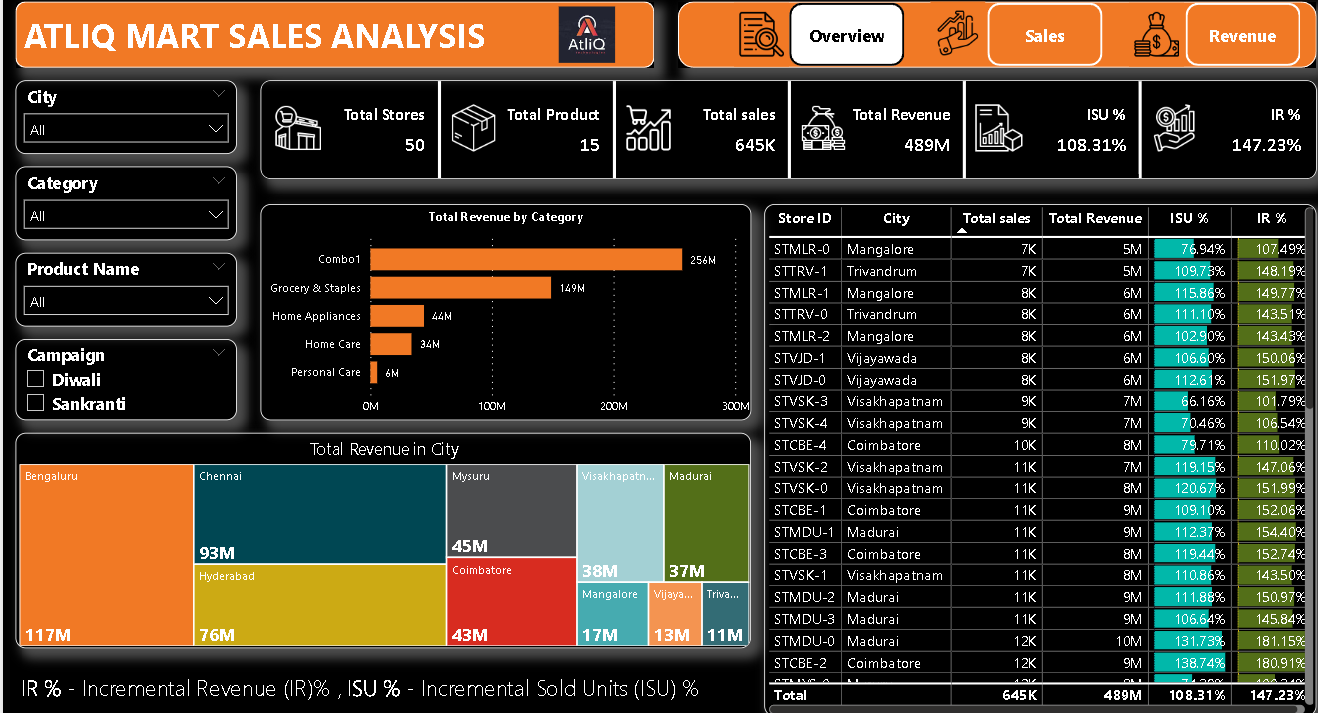

This screenshot's page, from the dashboard's own definition file:
{"tool":"powerbi","page":{"name":"Overview","canvas":[1280,720],"ordinal":0},"visuals":[{"type":"group","id":"g1","title":"Group 1","box":[651.3,12.1,616.3,63.9],"z":0},{"type":"shape","box":[651.3,12.1,616.3,63.9],"z":0,"group":"g1"},{"type":"shape","box":[12.1,12.1,616.3,63.9],"z":1000,"group":"g2"},{"type":"treemap","title":"Total Revenue in City","fields":{"Group":["dim_stores.city"],"Values":["Key Measures.Total Revenue1"]},"box":[12.6,428.2,709.9,207.8],"z":1000},{"type":"tableEx","fields":{"Values":["fact_events.store_id","dim_stores.city","Key Measures.Total sales","Key Measures.Total Revenue","Key Measures.ISU %","Key Measures.IR %"]},"box":[734.5,207.4,533.1,494.5],"z":2000},{"type":"pageNavigator","box":[758.6,13.3,494.5,61.5],"z":3000},{"type":"image","box":[516.2,12.1,94.1,63.9],"z":4000,"group":"g2"},{"type":"slicer","fields":{"Values":["dim_stores.city"]},"box":[12.1,88,213.5,71.2],"z":4000},{"type":"slicer","fields":{"Values":["dim_products.category"]},"box":[12.1,171.3,213.5,71.2],"z":5000},{"type":"slicer","fields":{"Values":["dim_campaigns.campaign_name"]},"box":[12.1,337.7,213.5,78.4],"z":6000},{"type":"image","box":[705.6,13.3,53.1,61.5],"z":7000,"group":"g1"},{"type":"slicer","fields":{"Values":["dim_products.product_name"]},"box":[12.1,254.5,213.5,71.2],"z":7000},{"type":"image","box":[1086.7,13.3,53.1,61.5],"z":8000,"group":"g1"},{"type":"cardVisual","fields":{"Data":["Key Measures.Total Stores","Key Measures.Total Product","Key Measures.Total sales","Key Measures.Total Revenue","Key Measures.ISU %","Key Measures.IR %"]},"box":[248.4,88,1019.1,95.3],"z":8000},{"type":"image","box":[894.9,12.1,53.1,61.5],"z":9000,"group":"g1"},{"type":"barChart","title":"Total Revenue by Category","fields":{"Category":["dim_products.category"],"Y":["Key Measures.Total Revenue"]},"box":[248.4,207.4,474,208.6],"z":9000},{"type":"group","id":"g2","title":"Group 2","box":[12.1,12.1,616.3,63.9],"z":10000},{"type":"textbox","box":[12.6,654.1,709.9,48.8],"z":11000}]}

Visuals, with their boxes on the page's 1280x720 design canvas (x1, y1, x2, y2). These are canvas units, not pixel positions in the 1318x713 screenshot, which may show the page scaled, cropped or inside an application window:
"Group 1" group: x1=651, y1=12, x2=1268, y2=76
shape: x1=651, y1=12, x2=1268, y2=76
shape: x1=12, y1=12, x2=628, y2=76
"Total Revenue in City" treemap: x1=13, y1=428, x2=722, y2=636
tableEx - fact_events.store_id x dim_stores.city: x1=734, y1=207, x2=1268, y2=702
pageNavigator: x1=759, y1=13, x2=1253, y2=75
image: x1=516, y1=12, x2=610, y2=76
slicer - dim_stores.city: x1=12, y1=88, x2=226, y2=159
slicer - dim_products.category: x1=12, y1=171, x2=226, y2=242
slicer - dim_campaigns.campaign_name: x1=12, y1=338, x2=226, y2=416
image: x1=706, y1=13, x2=759, y2=75
slicer - dim_products.product_name: x1=12, y1=254, x2=226, y2=326
image: x1=1087, y1=13, x2=1140, y2=75
cardVisual - Key Measures.Total Stores x Key Measures.Total Product: x1=248, y1=88, x2=1268, y2=183
image: x1=895, y1=12, x2=948, y2=74
"Total Revenue by Category" barChart: x1=248, y1=207, x2=722, y2=416
"Group 2" group: x1=12, y1=12, x2=628, y2=76
textbox: x1=13, y1=654, x2=722, y2=703
